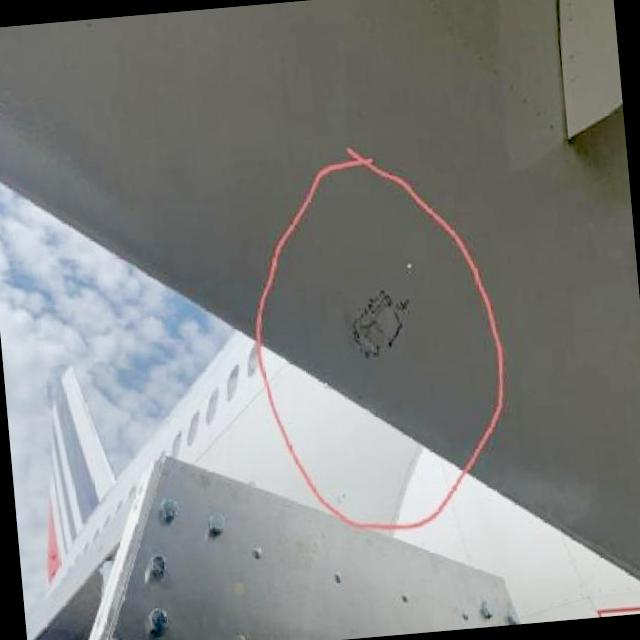crack: (355, 296, 398, 352)
